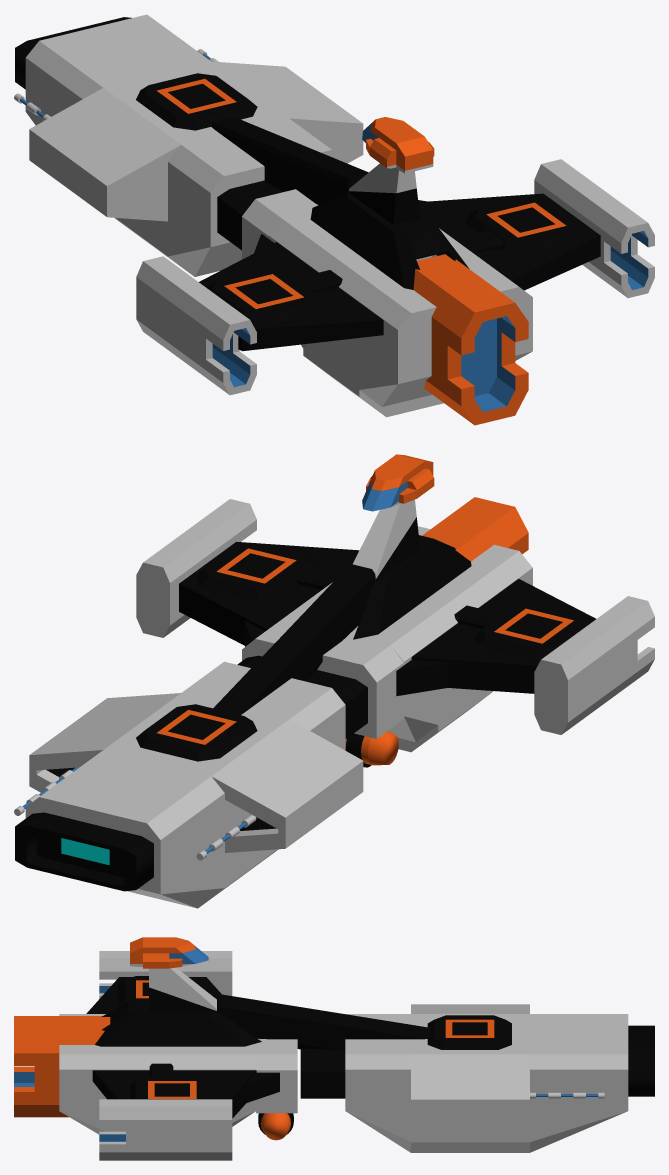
File: combat_cruiser.glb
3 renders of one model, top to bottom at view 1: azimuth 30°, elevation 25°; view 2: azimuth 150°, elevation 25°; view 3: azimuth 270°, elevation 25°, orthographic. The views are drawn at different scales.
Parts seen in each view (by area): view 1: mergedBlocks(Clone); view 2: mergedBlocks(Clone); view 3: mergedBlocks(Clone).
Boxes of the visible parts, x1,y1,x2,y2 form: mergedBlocks(Clone): [14, 14, 654, 425]; mergedBlocks(Clone): [14, 454, 654, 908]; mergedBlocks(Clone): [14, 937, 654, 1160].
Bounding box in the file's own units: 3.2 × 1.81 × 5.38.
